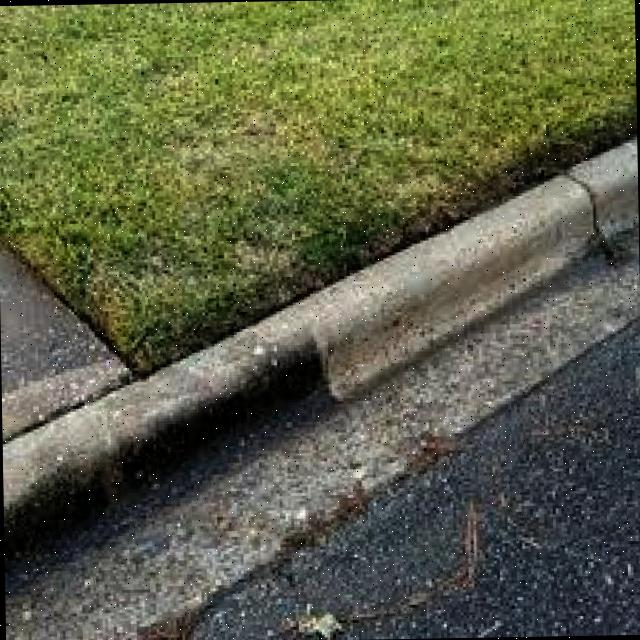curb: (3, 255, 393, 586), (347, 136, 632, 460)
